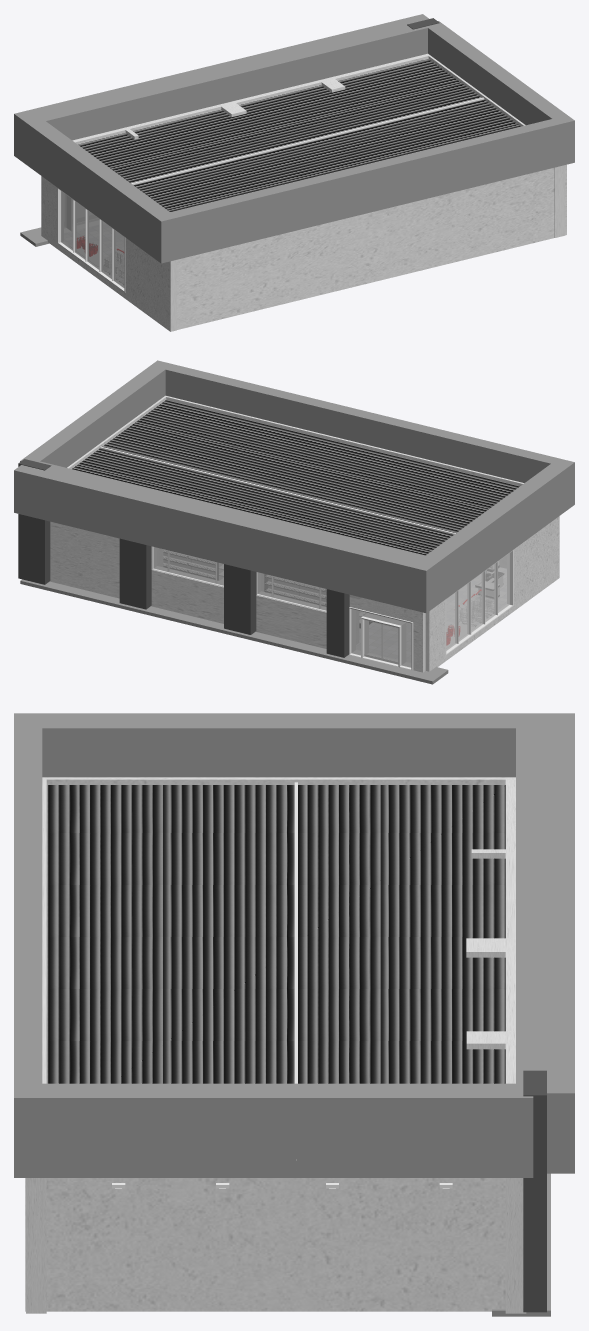
The model's file is supermarket.glb.
3 renders of one model, top to bottom at view 1: azimuth 30°, elevation 25°; view 2: azimuth 150°, elevation 25°; view 3: azimuth 270°, elevation 25°, orthographic. The views are drawn at different scales.
Parts seen in each view (by area): view 1: Env_Material.052, Env_Material.014, Env_Material.001, Env_material_0, Env_material_7, Env_Material, Env_material_5; view 2: Env_Material.052, Env_Material.001, Env_Material.014, Env_material_7, Env_Material.051, Env_material_0, Env_Material, Env_material_5; view 3: Env_Material.001, Env_Material.052, Env_Material.014, Env_Material.051, Env_material_0.
Part boxes in pixels (<box>): Env_Material.052: <box>14,14,574,263</box>; Env_Material.014: <box>41,53,566,331</box>; Env_Material.001: <box>78,59,520,211</box>; Env_material_0: <box>57,97,484,292</box>; Env_material_7: <box>61,191,124,287</box>; Env_Material: <box>64,224,123,283</box>; Env_material_5: <box>69,244,123,283</box>; Env_Material.052: <box>14,360,574,684</box>; Env_Material.001: <box>72,400,519,555</box>; Env_Material.014: <box>50,395,559,672</box>; Env_material_7: <box>153,547,509,667</box>; Env_Material.051: <box>18,459,349,657</box>; Env_material_0: <box>99,446,513,670</box>; Env_Material: <box>356,567,506,662</box>; Env_material_5: <box>446,596,493,648</box>; Env_Material.001: <box>46,785,505,1083</box>; Env_Material.052: <box>14,713,574,1316</box>; Env_Material.014: <box>25,777,526,1313</box>; Env_Material.051: <box>523,1070,546,1312</box>; Env_material_0: <box>112,782,452,1188</box>.
Bounding box in the file's own units: 29.47 × 8.01 × 18.14.
19 materials, 6 textured.
